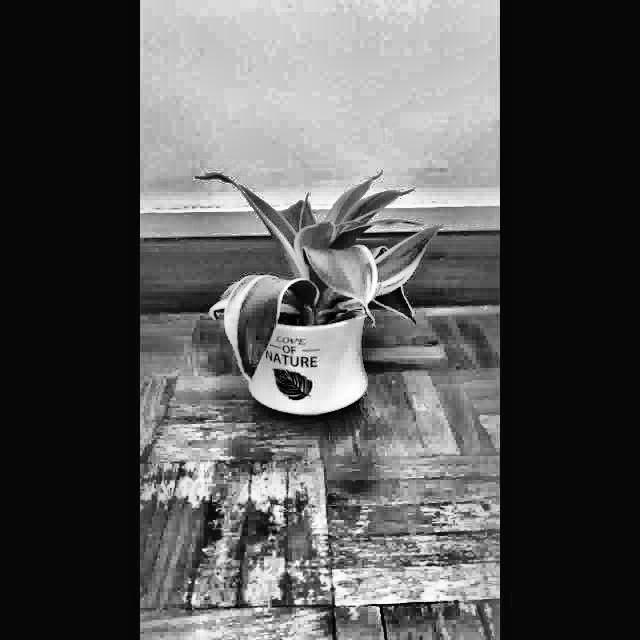plants: (182, 153, 452, 430)
